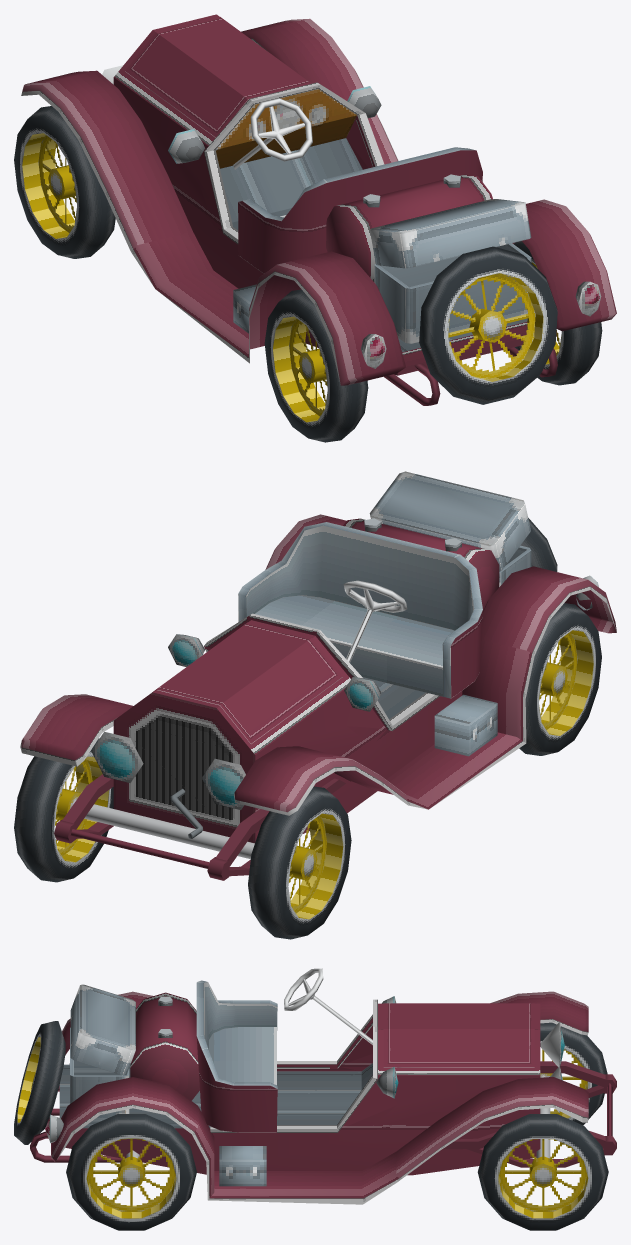
3 renders of one model, top to bottom at view 1: azimuth 30°, elevation 25°; view 2: azimuth 150°, elevation 25°; view 3: azimuth 270°, elevation 25°, orthographic. The views are drawn at different scales.
Visible parts, largest first — view 1: burns_vShape, HoodRotShape, w2Shape, w1Shape.001, TrunkRotShape, w1Shape; view 2: burns_vShape, HoodRotShape, w2Shape, TrunkRotShape, w1Shape.001, wShape0; view 3: burns_vShape, HoodRotShape, w1Shape, wShape0, TrunkRotShape, w2Shape.
Boxes of the visible parts, x1=… form: burns_vShape: x1=21, y1=14, x2=616, y2=405; HoodRotShape: x1=125, y1=16, x2=311, y2=137; w2Shape: x1=14, y1=106, x2=115, y2=258; w1Shape.001: x1=264, y1=289, x2=368, y2=442; TrunkRotShape: x1=370, y1=199, x2=531, y2=268; w1Shape: x1=514, y1=241, x2=602, y2=385; burns_vShape: x1=20, y1=514, x2=616, y2=880; HoodRotShape: x1=150, y1=622, x2=342, y2=743; w2Shape: x1=248, y1=786, x2=351, y2=939; TrunkRotShape: x1=369, y1=471, x2=530, y2=571; w1Shape.001: x1=519, y1=603, x2=601, y2=755; wShape0: x1=14, y1=738, x2=113, y2=882; burns_vShape: x1=14, y1=968, x2=616, y2=1204; HoodRotShape: x1=383, y1=1003, x2=534, y2=1066; w1Shape: x1=66, y1=1114, x2=196, y2=1230; wShape0: x1=477, y1=1114, x2=608, y2=1230; TrunkRotShape: x1=70, y1=984, x2=135, y2=1075; w2Shape: x1=540, y1=1022, x2=607, y2=1124.
Bounding box in the file's own units: 1.93 × 1.55 × 4.42.
